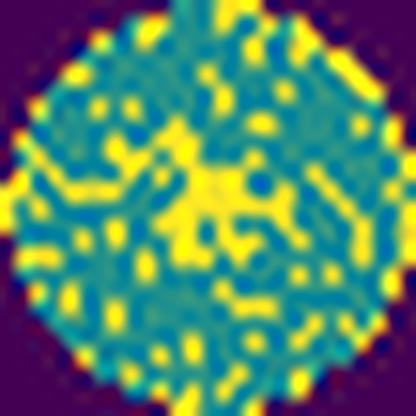Center: (145, 110, 311, 271)
